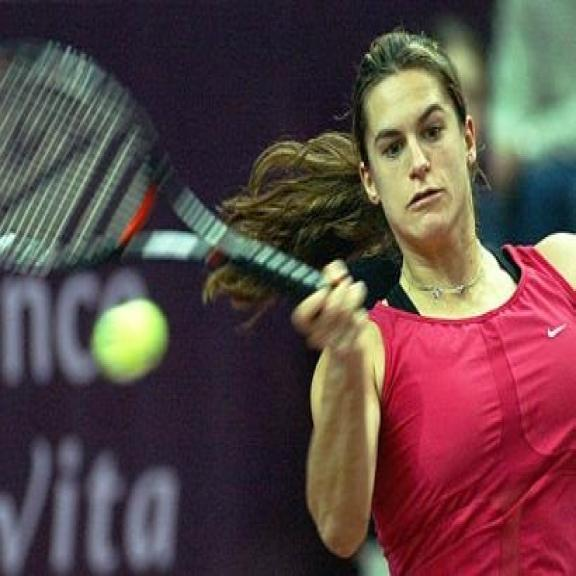face: (352, 68, 484, 246)
